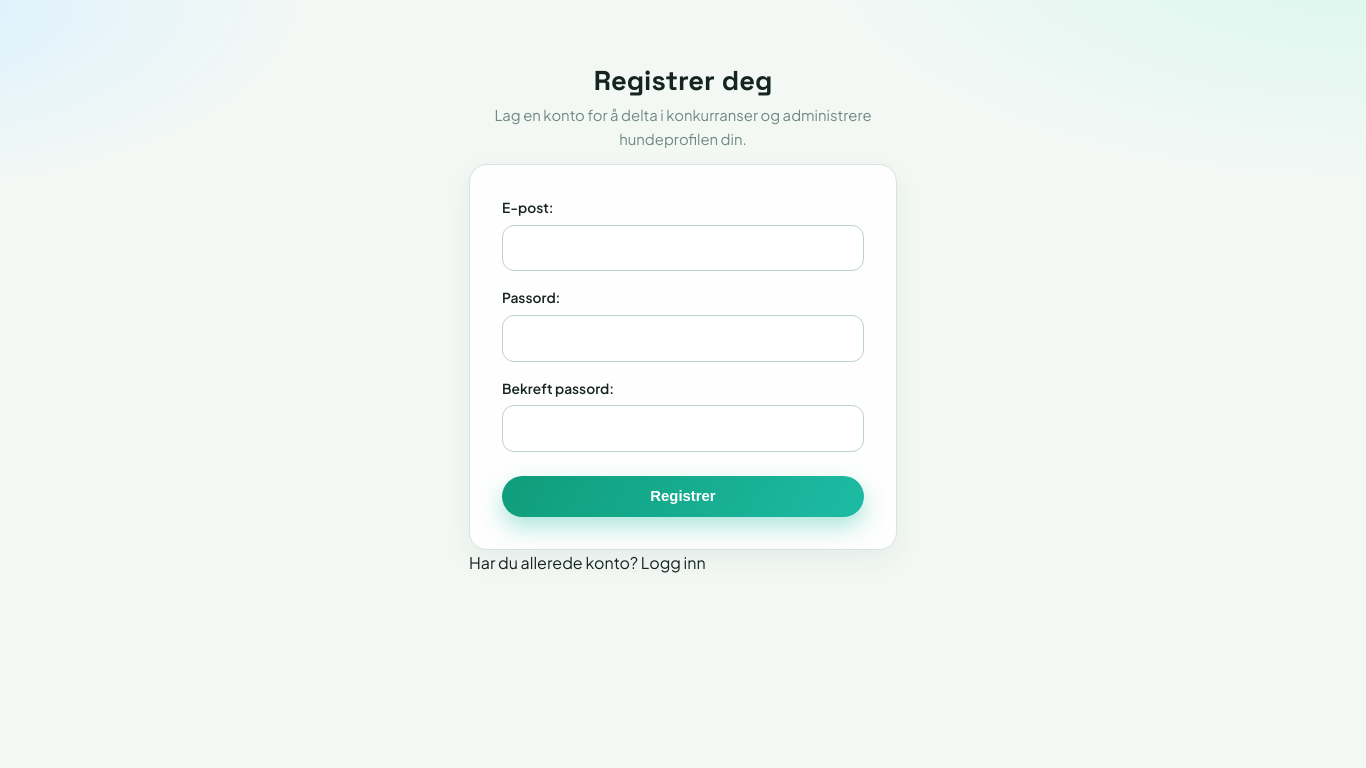
RegisterView › shows error when password is too short
Type "thor@example.com" into the field with id "email" at (683, 248), box [502,225,864,271]
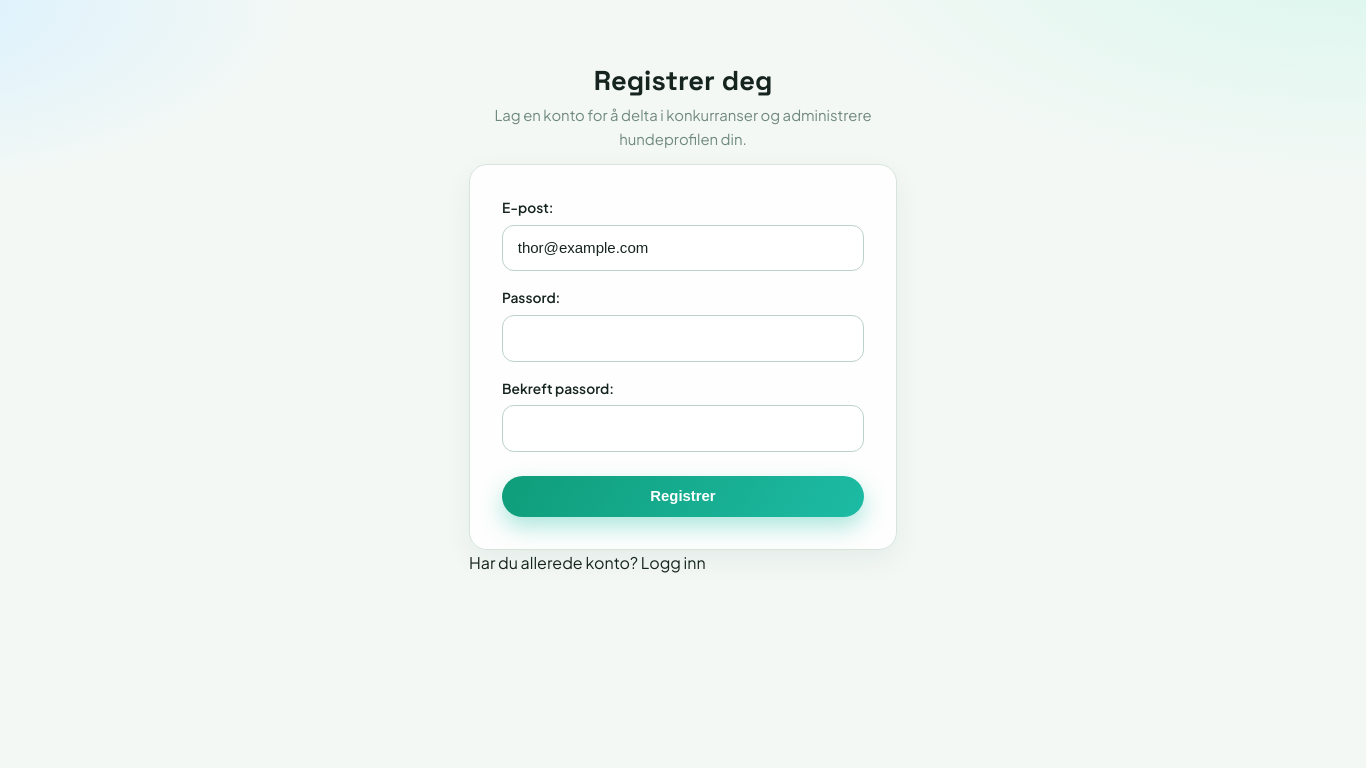
Type "123" into the password field labelled "Passord:" at (683, 338), box [502,315,864,362]
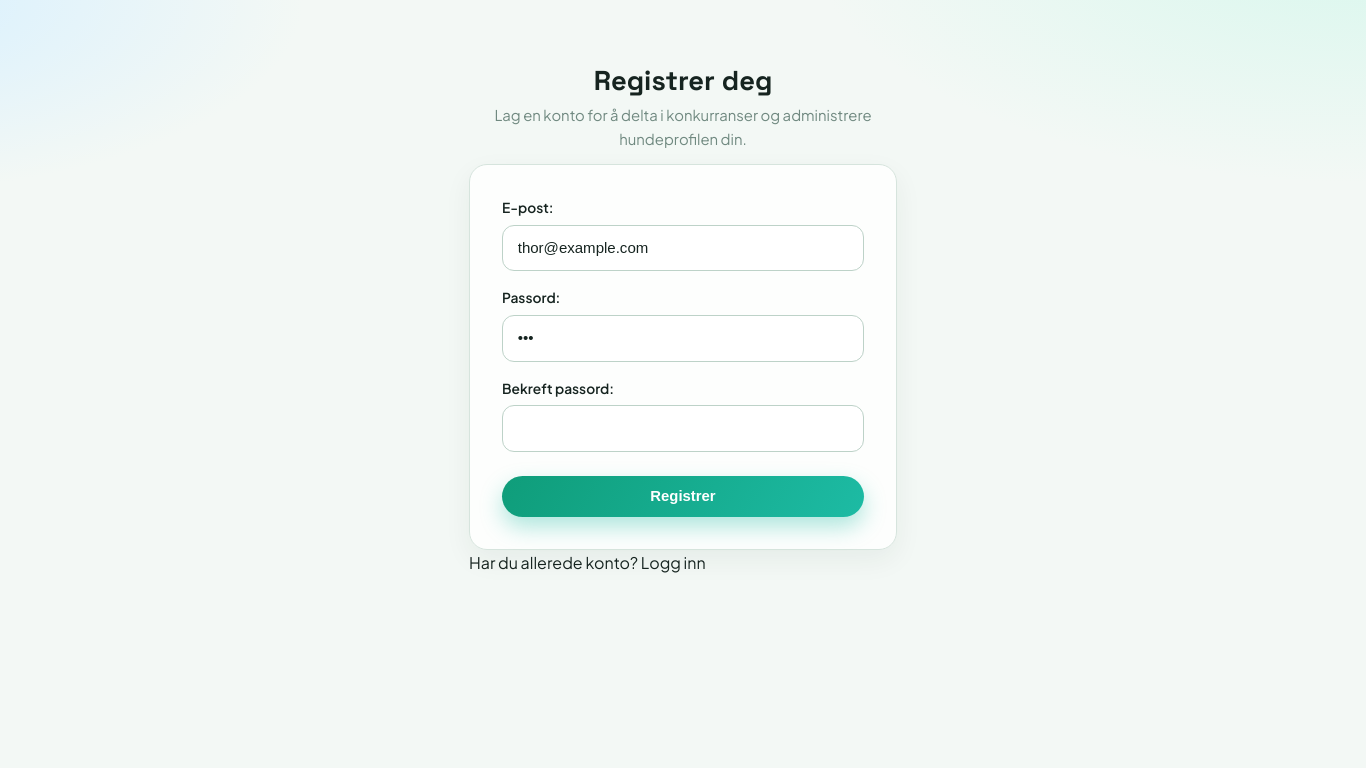
Type "123" into the password field with id "confirmPassword" at (683, 429), box [502,406,864,452]
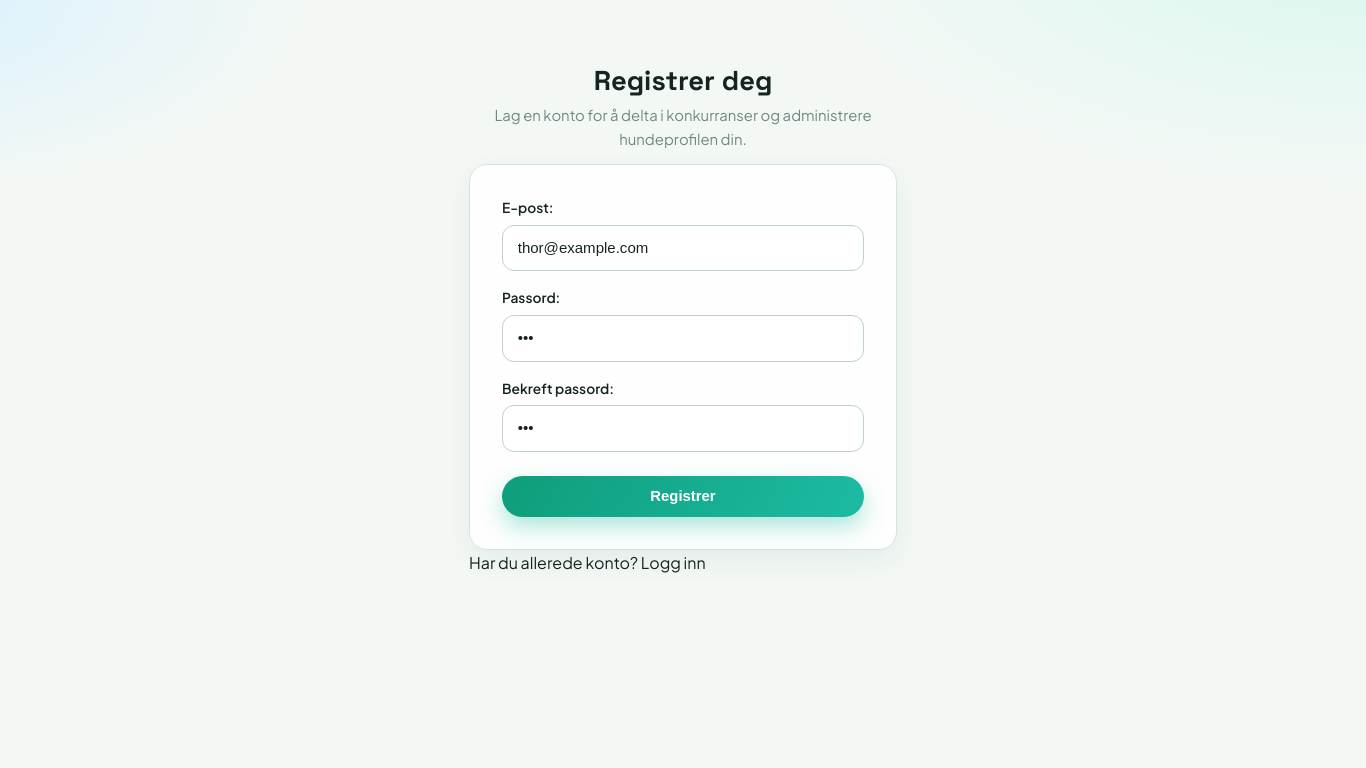
Submit the form, box [469,164,897,550]
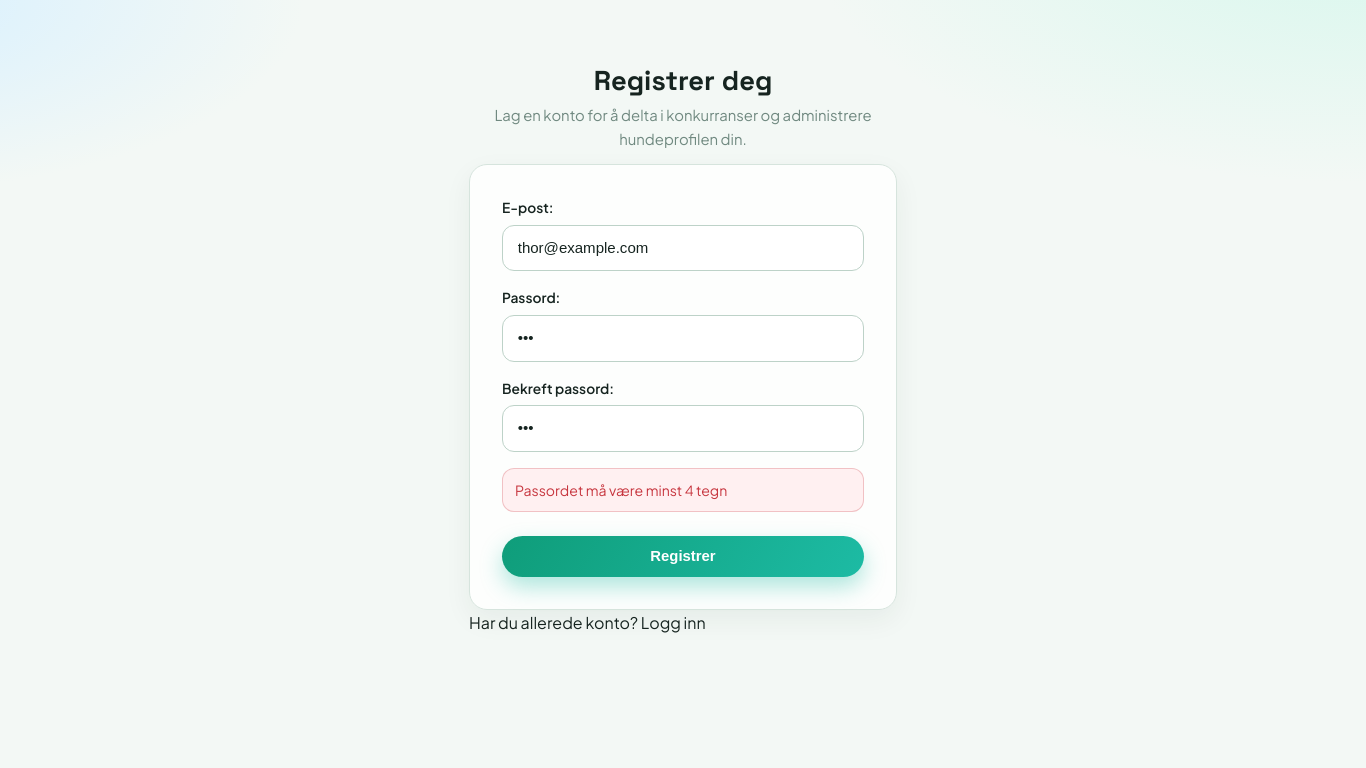
Check: the text "Passordet må være minst 4 tegn" is shown, box [502,468,864,512]
